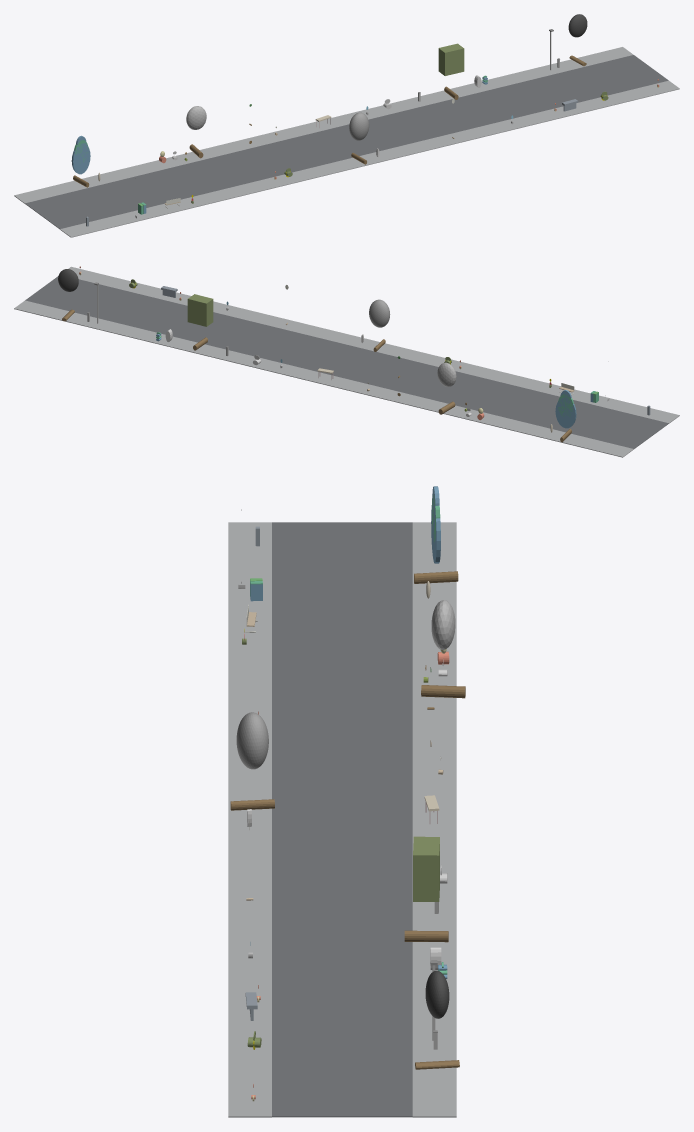
3 renders of one model, top to bottom at view 1: azimuth 30°, elevation 25°; view 2: azimuth 150°, elevation 25°; view 3: azimuth 270°, elevation 25°, orthographic. The views are drawn at different scales.
Parts seen in each view (by area): view 1: road_slab, sidewalk_left, sidewalk_right, inst_0015, inst_0012, inst_0014, inst_0013, inst_0016; view 2: road_slab, sidewalk_right, sidewalk_left, inst_0015, inst_0012, inst_0014, inst_0013, inst_0016; view 3: road_slab, sidewalk_left, sidewalk_right, inst_0015, inst_0014, inst_0013, inst_0016, inst_0012.
Boxes of the visible parts, bbox=[...] form: road_slab: bbox=[25, 55, 668, 229]; sidewalk_left: bbox=[60, 80, 679, 237]; sidewalk_right: bbox=[14, 47, 633, 203]; inst_0015: bbox=[438, 43, 464, 99]; inst_0012: bbox=[71, 135, 90, 187]; inst_0014: bbox=[349, 112, 369, 164]; inst_0013: bbox=[186, 106, 206, 158]; inst_0016: bbox=[568, 14, 587, 66]; road_slab: bbox=[25, 276, 668, 448]; sidewalk_right: bbox=[14, 300, 633, 457]; sidewalk_left: bbox=[68, 266, 679, 423]; inst_0015: bbox=[187, 294, 213, 350]; inst_0012: bbox=[555, 390, 576, 442]; inst_0014: bbox=[369, 299, 390, 351]; inst_0013: bbox=[437, 362, 456, 414]; inst_0016: bbox=[58, 269, 78, 321]; road_slab: bbox=[272, 522, 412, 1117]; sidewalk_left: bbox=[228, 522, 271, 1117]; sidewalk_right: bbox=[412, 522, 456, 1117]; inst_0015: bbox=[404, 836, 448, 942]; inst_0014: bbox=[230, 712, 274, 810]; inst_0013: bbox=[421, 600, 465, 698]; inst_0016: bbox=[415, 970, 459, 1069]; inst_0012: bbox=[414, 486, 458, 583].
Bounding box in the file's own units: 80 × 6.08 × 13.52.
